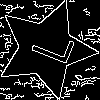L: (21, 24, 76, 67)
